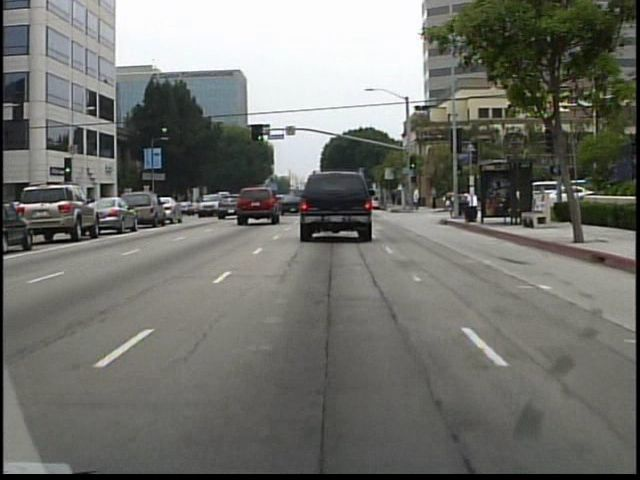person: (410, 184, 423, 214), (428, 181, 440, 212), (390, 186, 400, 209)
